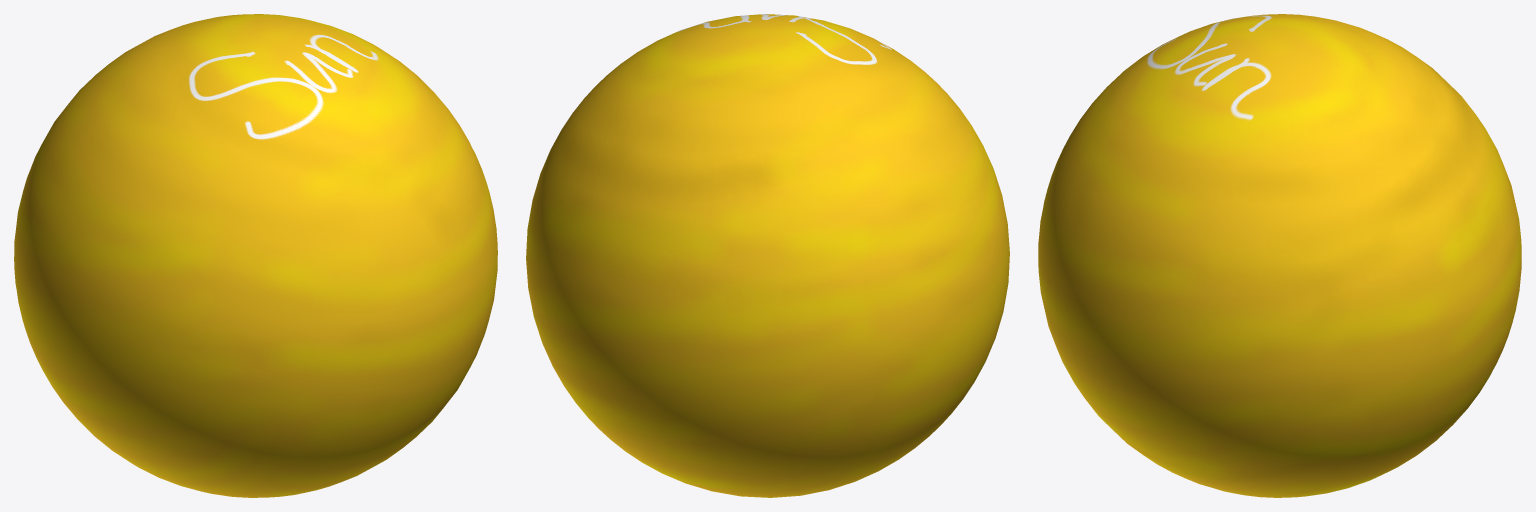
The model's file is sun.gltf.
3 views of the same model, side by side, from view 1: azimuth 30°, elevation 25°; view 2: azimuth 150°, elevation 25°; view 3: azimuth 270°, elevation 25° (orthographic).
Visible parts, largest first — view 1: mesh_id27; view 2: mesh_id27; view 3: mesh_id27.
Part boxes in pixels (<box>): mesh_id27: <box>14,14,497,497</box>; mesh_id27: <box>526,14,1009,497</box>; mesh_id27: <box>1038,14,1521,497</box>.
Size of the model in its own units: 0.5365 by 0.5358 by 0.5359.
1 material, 1 textured.
